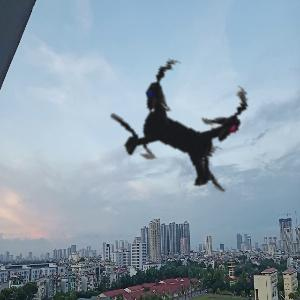drone: (54, 8, 300, 254)
